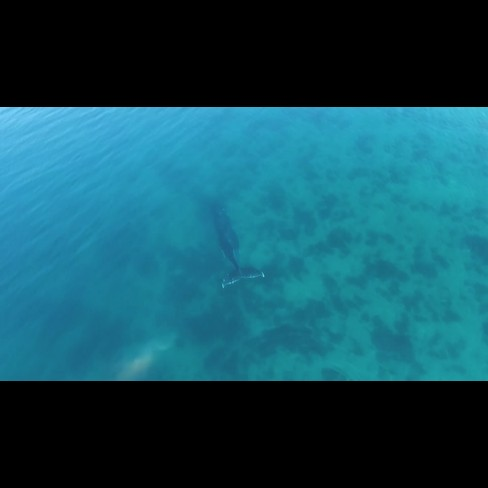hump: (196, 187, 273, 295)
